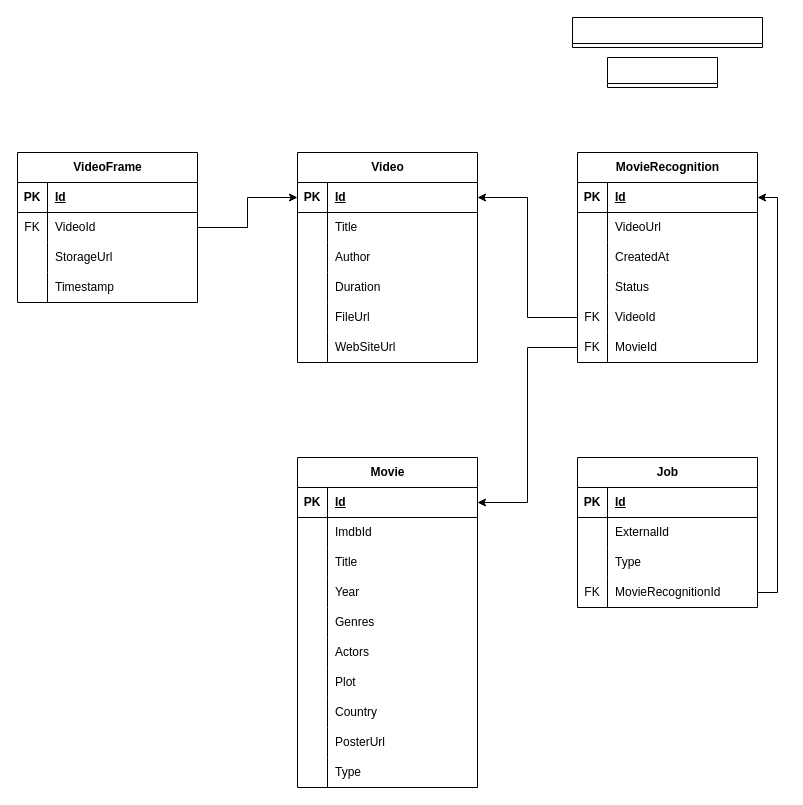
This 803x805 diagram has some shape labels left out. The centre of each missing label's shape, as x and y in pixels:
"MovieRecognitionStatus" goes at [667,32].
"MovieType" goes at [662,72].
